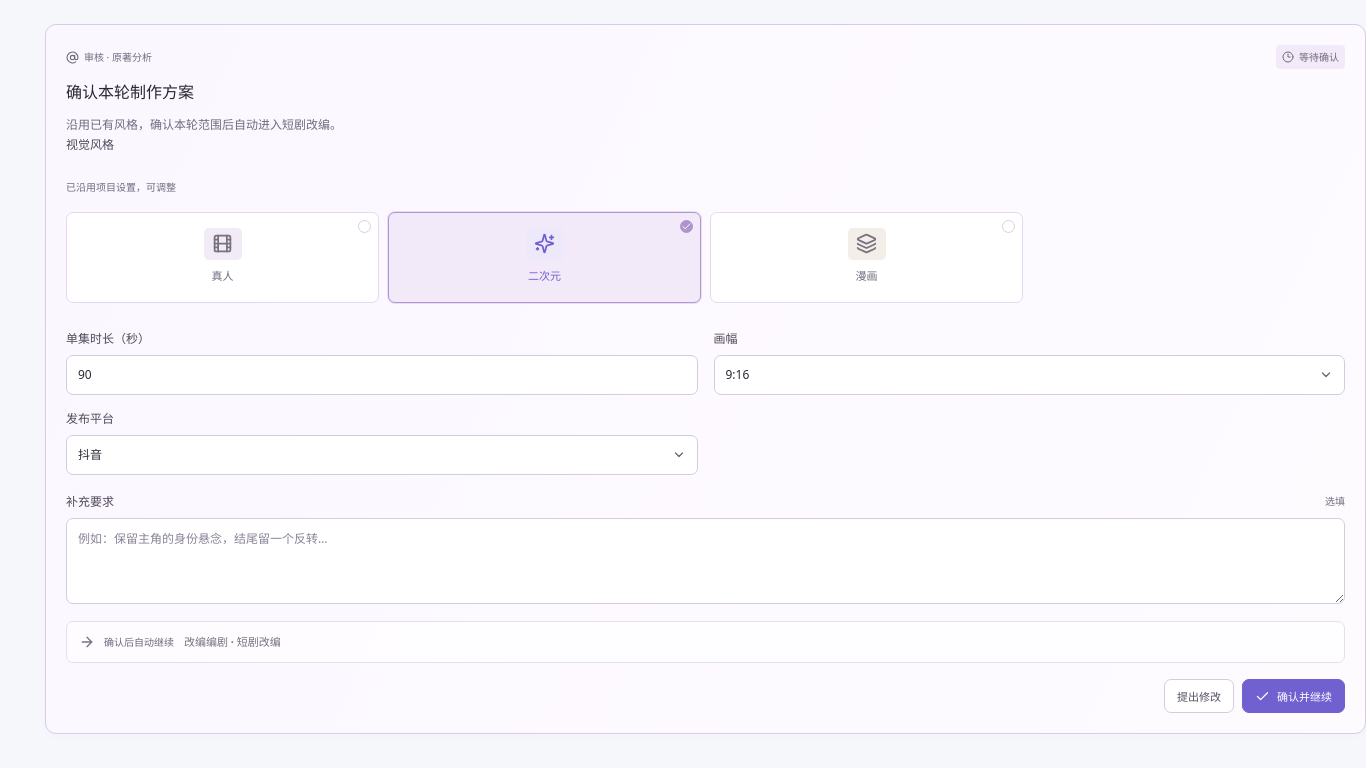
structured workflow approvals › requires revision feedback but does not block revisions on production fields
Clear the field labelled "单集时长（秒）": (382, 375) top-left (66, 355), bottom-right (698, 395)
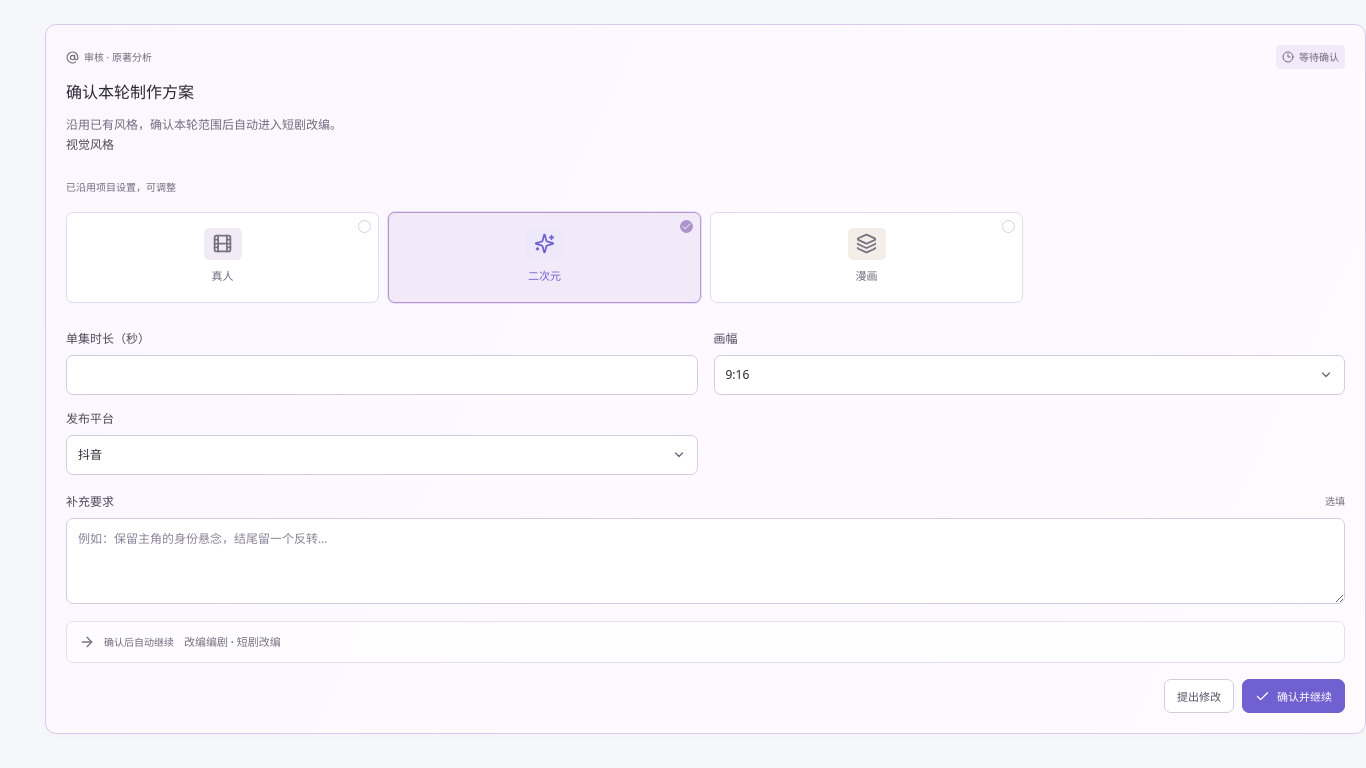
Click the button "提出修改": (1199, 696) top-left (1164, 680), bottom-right (1234, 714)
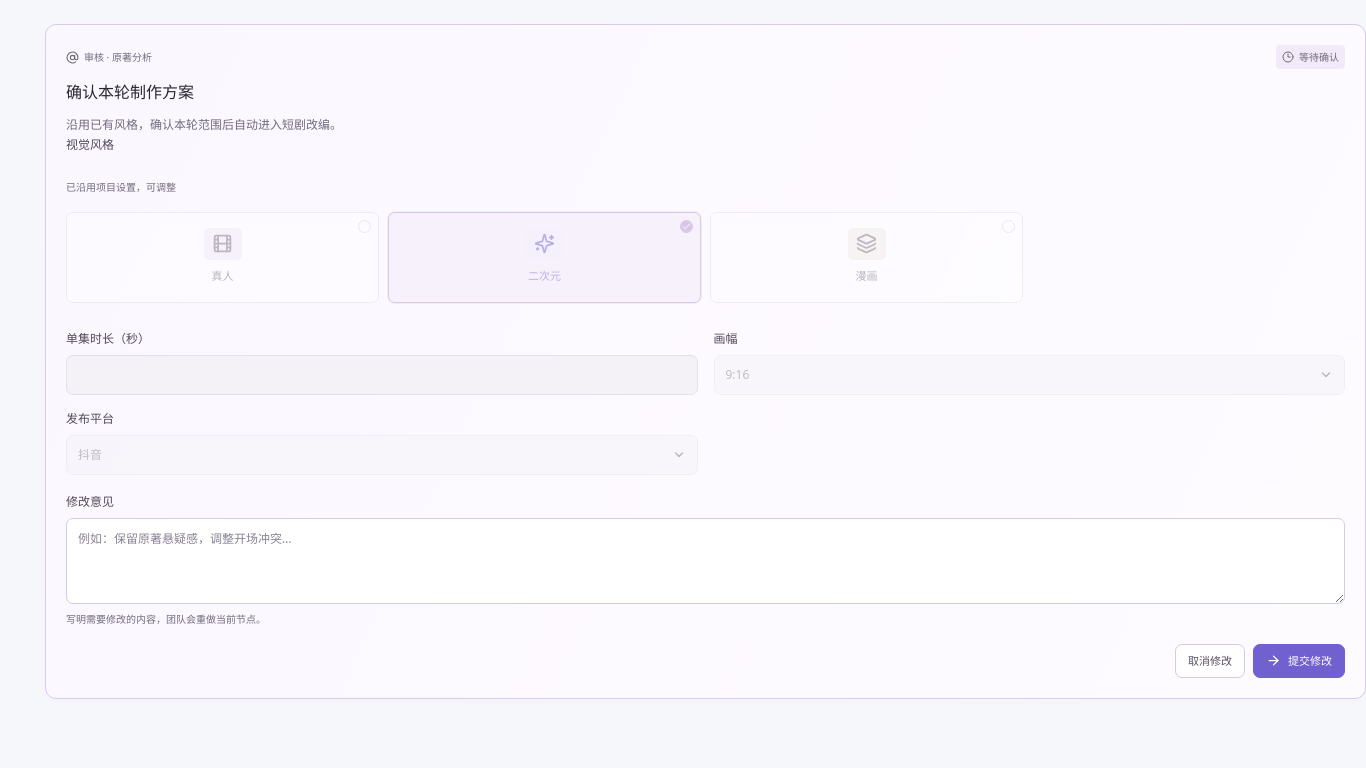
Click the button "提交修改": (1299, 661) top-left (1253, 644), bottom-right (1345, 678)
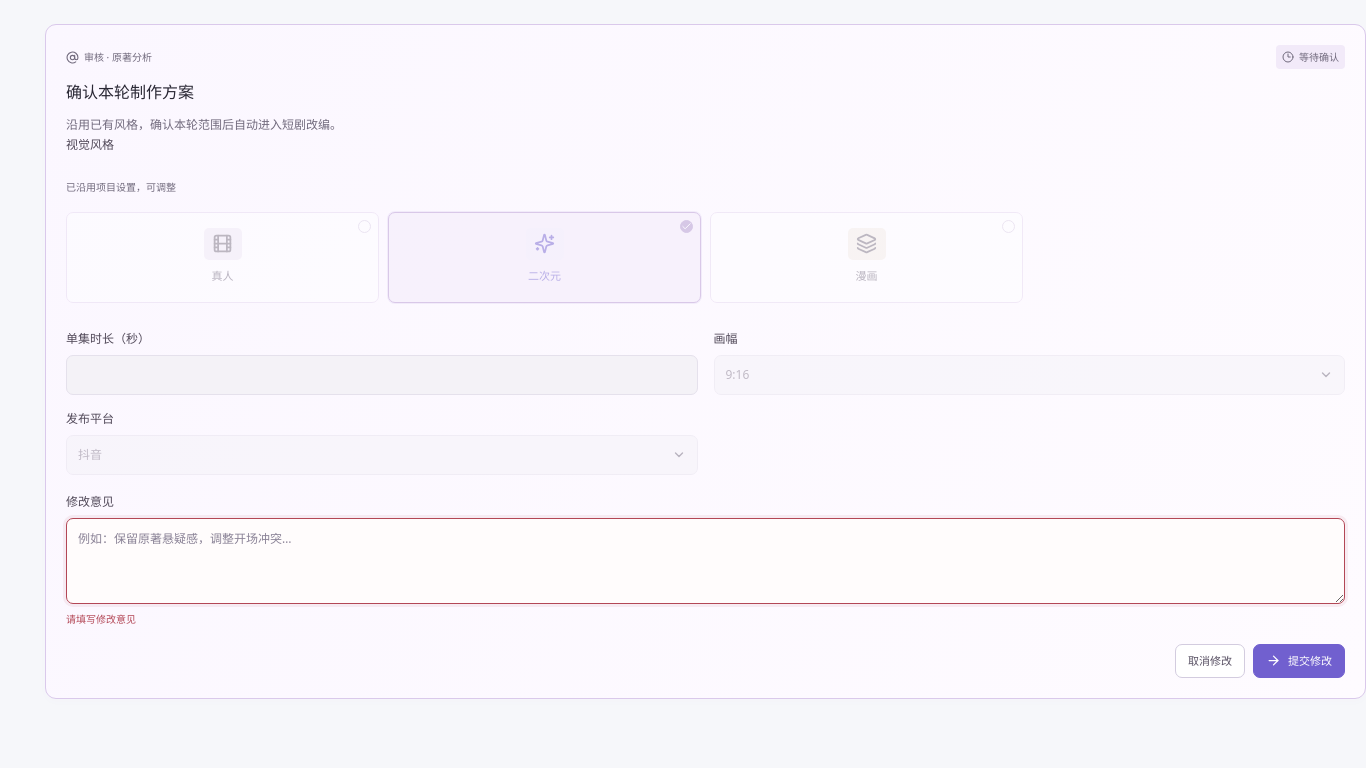
Result: the text "请填写修改意见" is shown at top-left (66, 612), bottom-right (136, 626)
In the text box labelled "修改意见": (706, 561) top-left (66, 518), bottom-right (1345, 604), type "根据第二章重做分析"
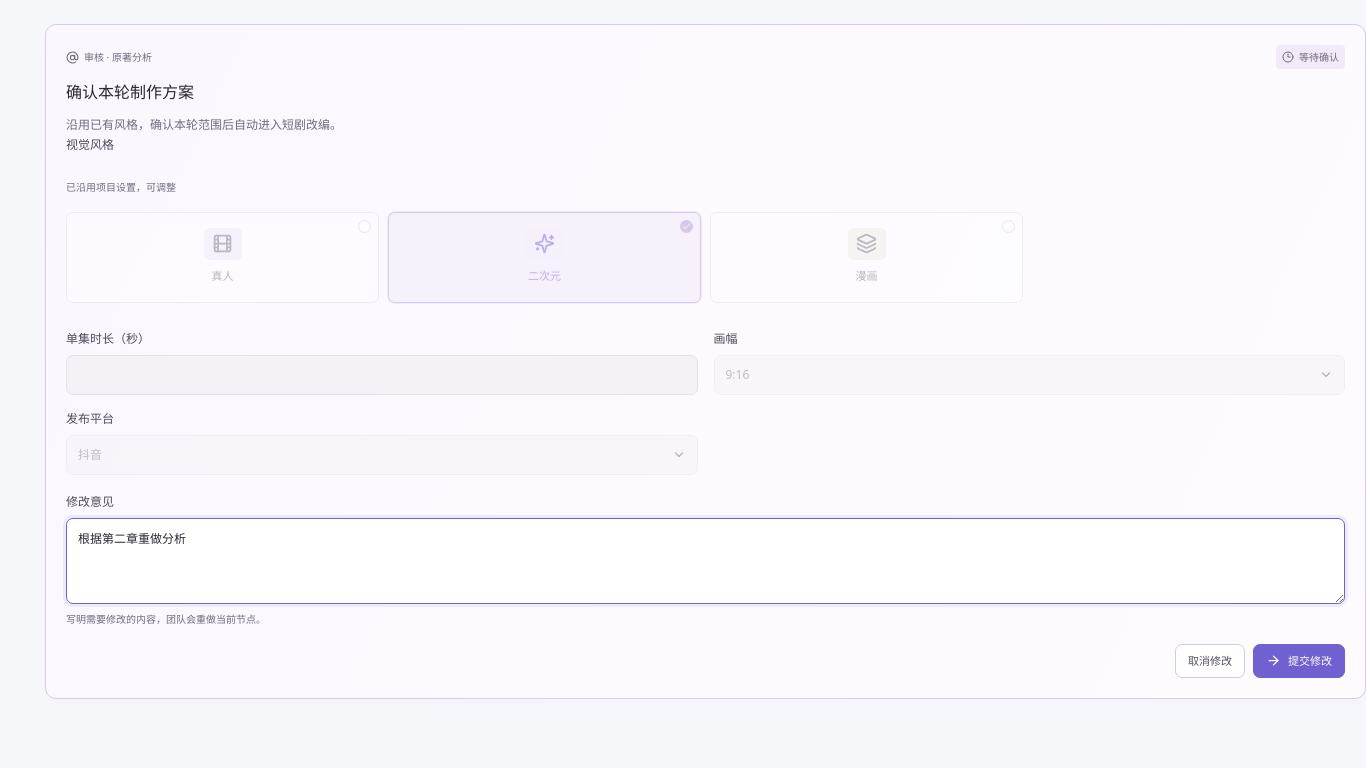
Click the button "提交修改": (1299, 661) top-left (1253, 644), bottom-right (1345, 678)
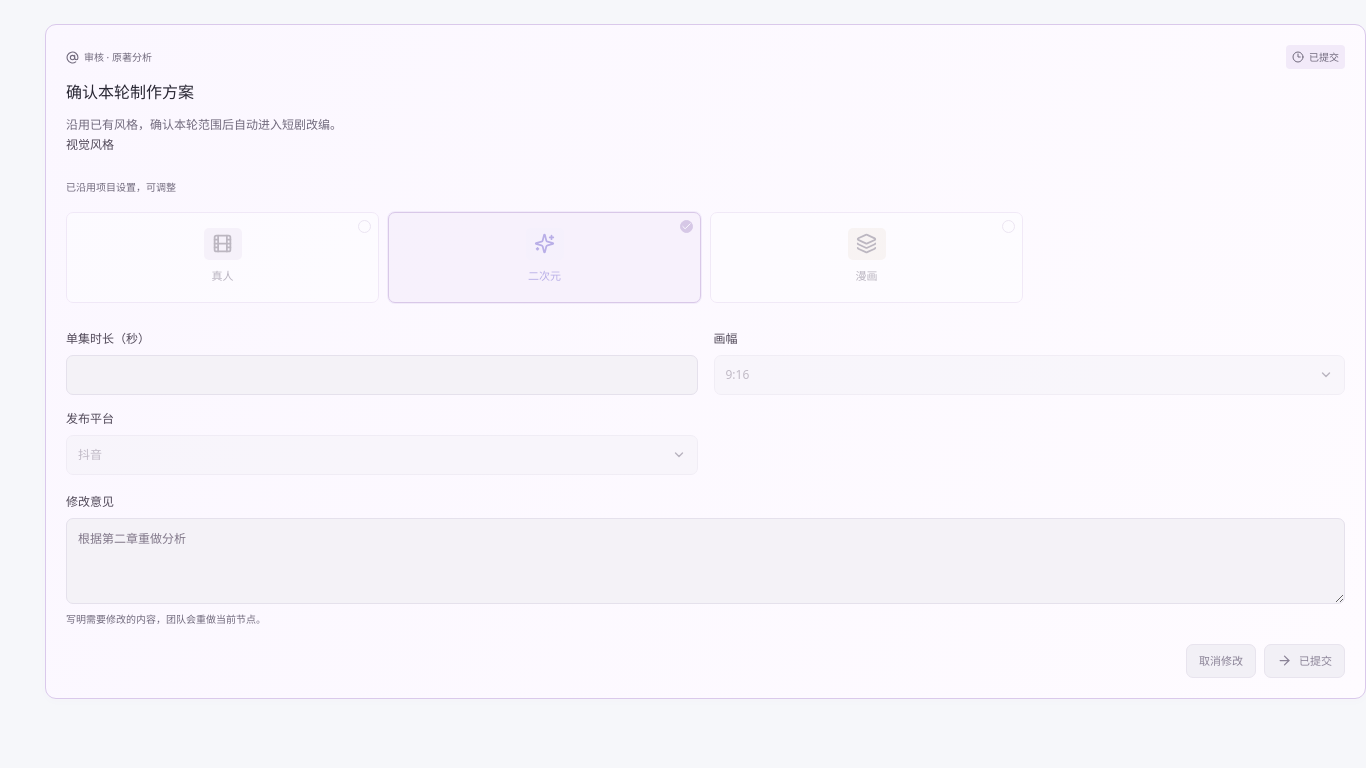
Result: the button "已提交" is shown at top-left (1264, 644), bottom-right (1345, 678)
